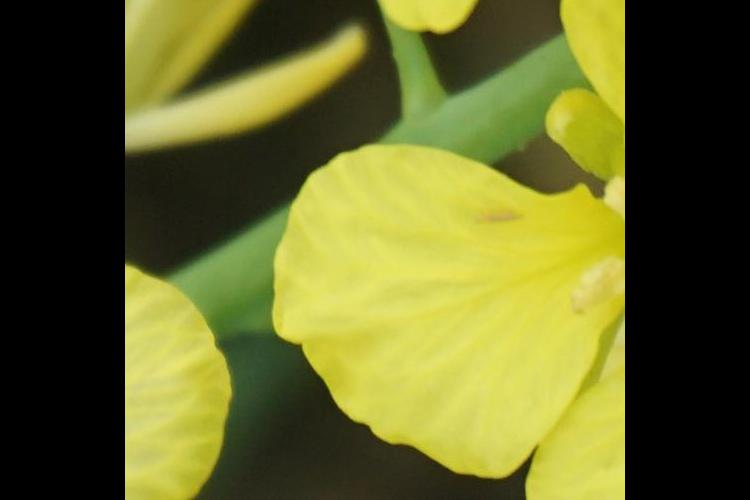bud: (545, 89, 617, 182)
yellow: (280, 143, 626, 500), (127, 1, 336, 141), (129, 264, 218, 500)
